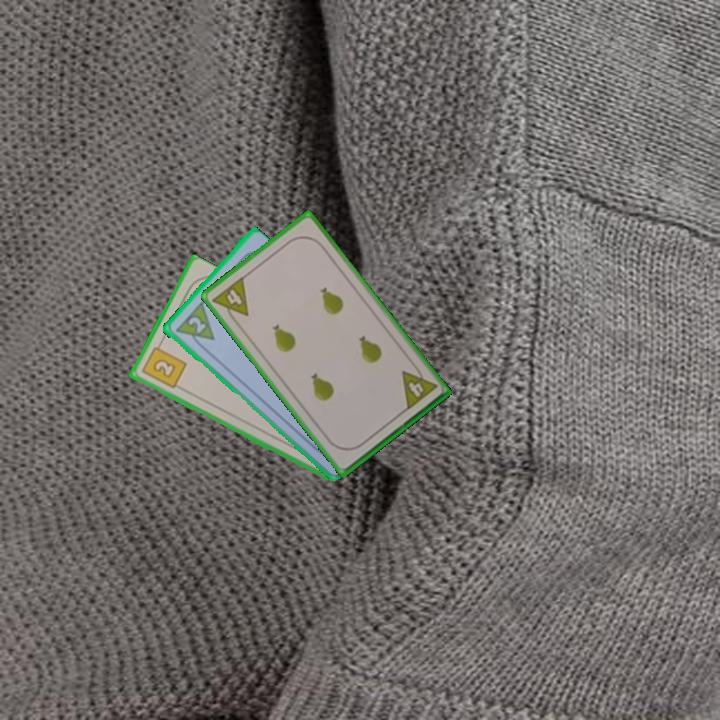2b: (138, 339, 189, 392)
2p: (184, 313, 208, 336)
4p: (208, 273, 251, 327), (398, 360, 440, 413)
